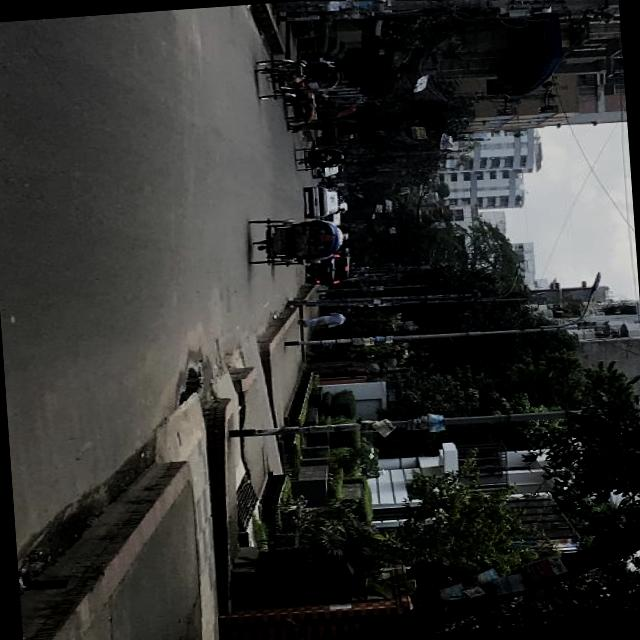car: (307, 258, 351, 288), (305, 186, 339, 218), (314, 168, 338, 178)
motorcycle: (249, 213, 342, 264), (254, 54, 345, 102), (296, 145, 344, 171)
